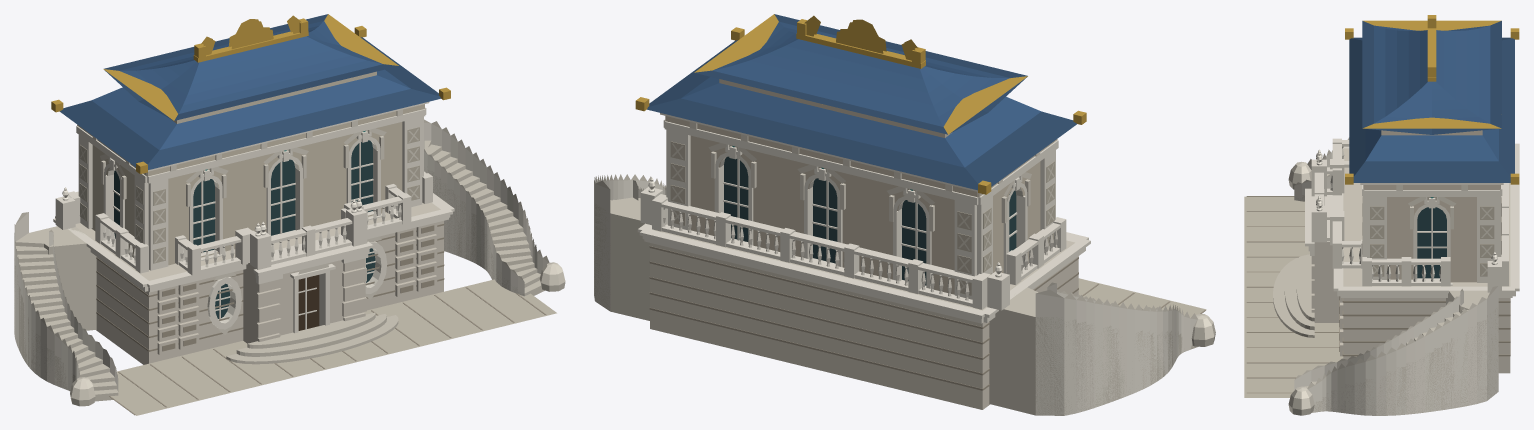
The picture shows the model from 3 angles, left to right: view 1: azimuth 30°, elevation 25°; view 2: azimuth 150°, elevation 25°; view 3: azimuth 270°, elevation 25°; orthographic projection. The views are drawn at different scales.
Parts seen in each view (by area): view 1: XY06 方外观 Fangwaiguan; view 2: XY06 方外观 Fangwaiguan; view 3: XY06 方外观 Fangwaiguan.
Part boxes in pixels (x1,y1,x2,y2): XY06 方外观 Fangwaiguan: (14, 14, 565, 415); XY06 方外观 Fangwaiguan: (594, 14, 1215, 415); XY06 方外观 Fangwaiguan: (1244, 15, 1519, 415).
Bounding box in the file's own units: 23.42 × 12.7 × 11.55.
